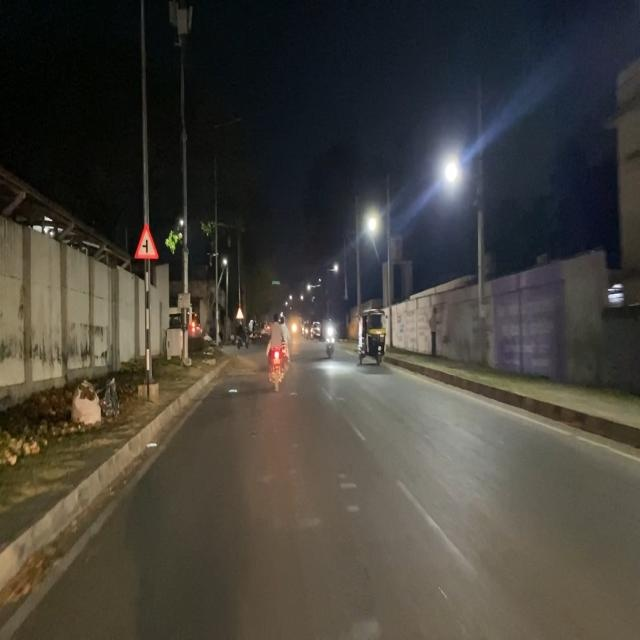bien_nguy_hiem: (133, 218, 159, 265)
